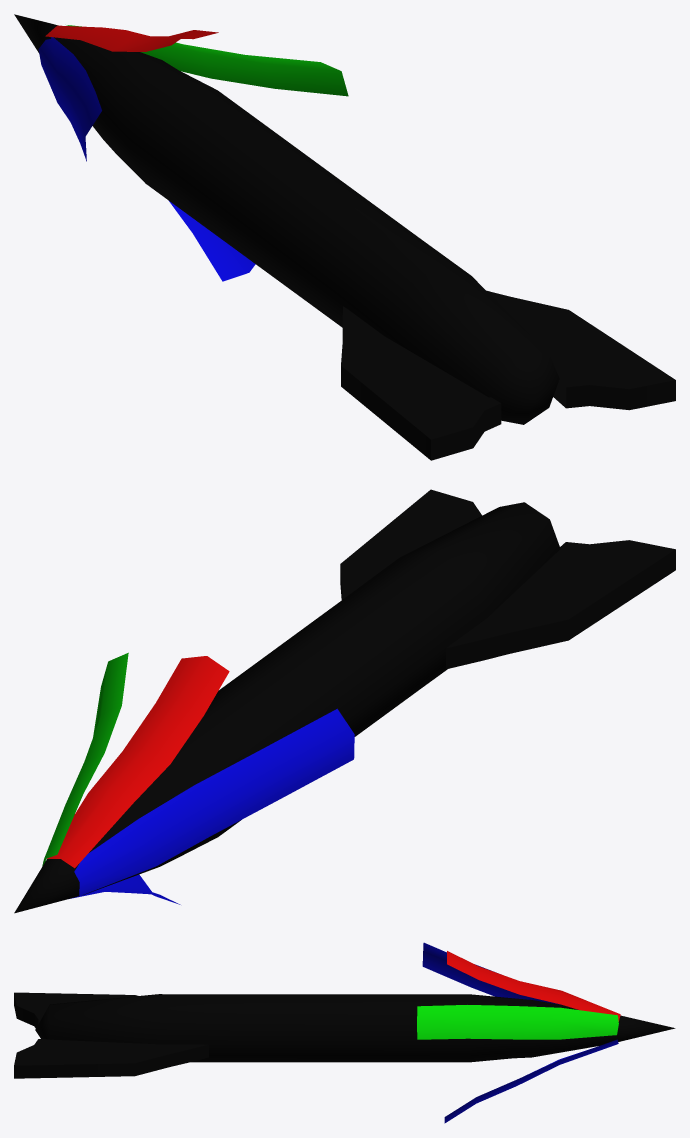
The model's file is Rocker_Wind_v2.FBX.
The picture shows the model from 3 angles, top to bottom: view 1: azimuth 30°, elevation 25°; view 2: azimuth 150°, elevation 25°; view 3: azimuth 270°, elevation 25°; orthographic projection. The views are drawn at different scales.
Visible parts, largest first — view 1: Rocket; view 2: Rocket; view 3: Rocket.
Part boxes in pixels (<box>): Rocket: <box>14,14,675,460</box>; Rocket: <box>14,489,675,913</box>; Rocket: <box>14,942,675,1123</box>.
Size of the model in its own units: 43.48 by 41.36 by 157.
